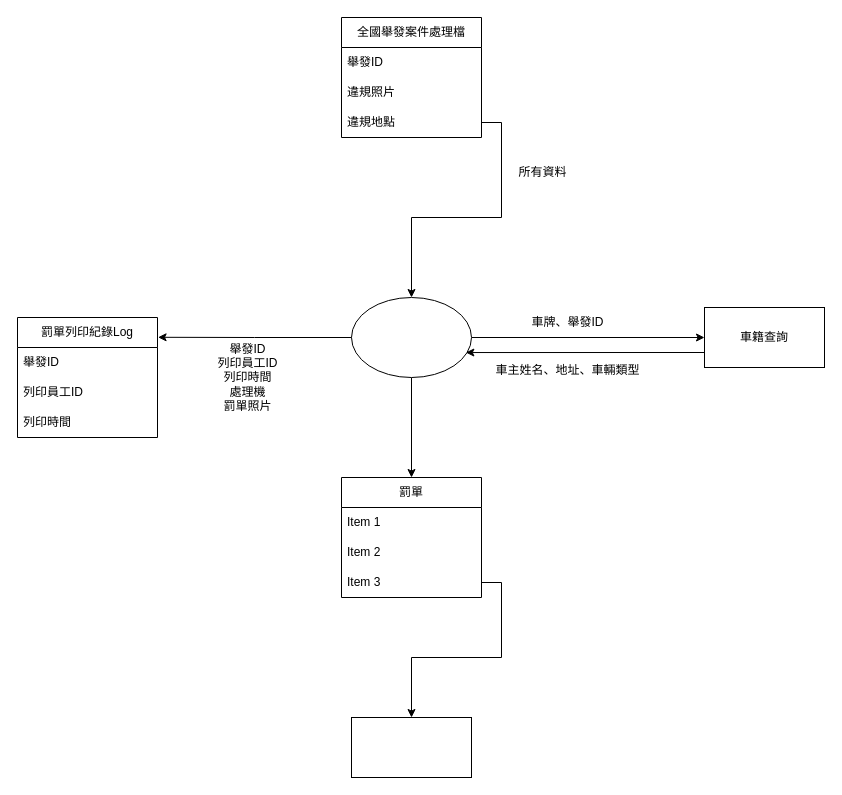
The diagram is 842 pixels wide and 795 high, and some of its shapes have lost their labels. Each missing label, with the centre of its shape:
違規民眾: [411,747]
開單申請: [411,337]
